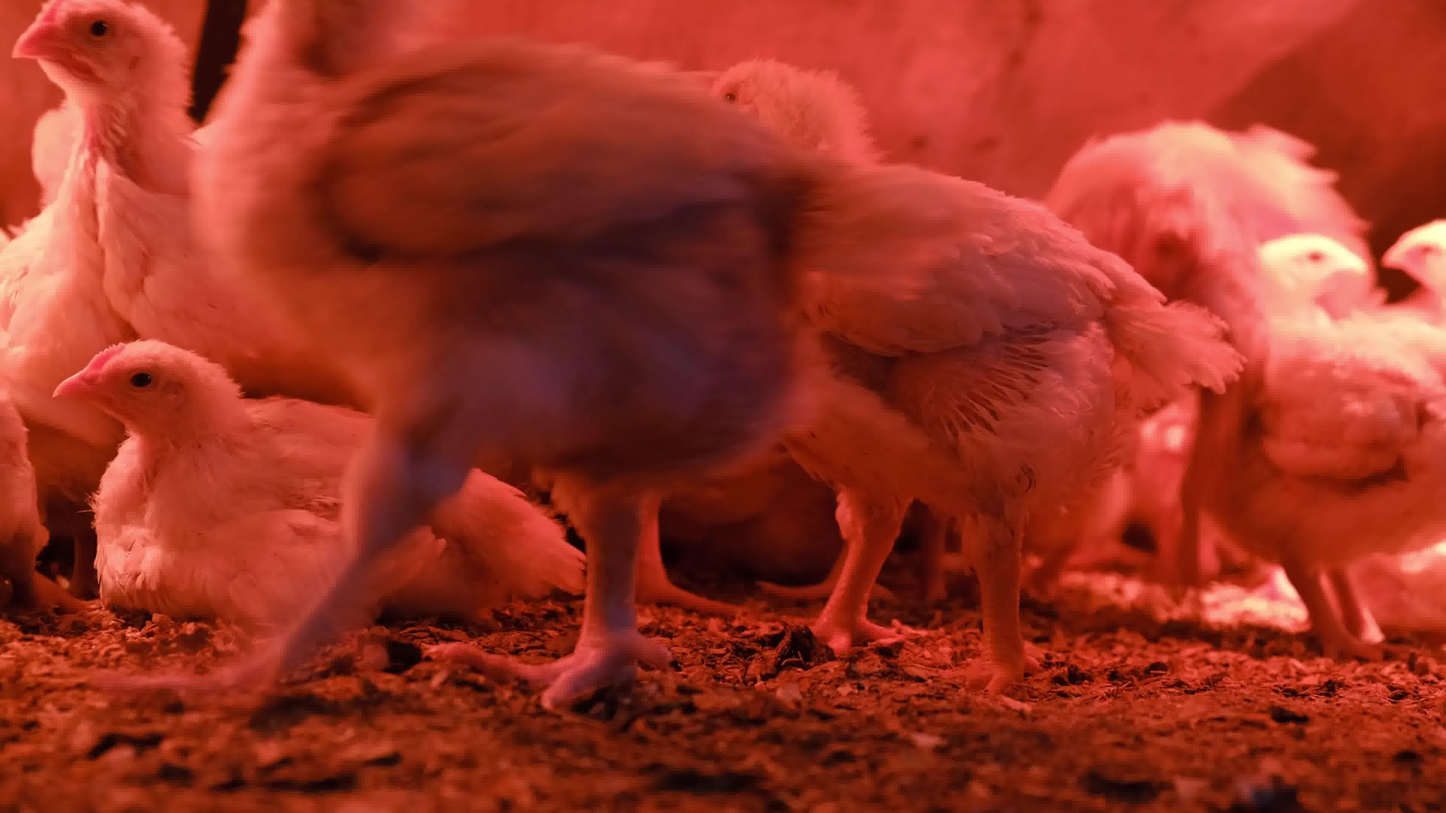AbNormal: (53, 339, 600, 605), (0, 379, 64, 619)
Normal: (200, 0, 828, 724), (699, 57, 1234, 699), (14, 0, 281, 397), (1030, 113, 1379, 410), (1244, 234, 1444, 653), (1386, 219, 1446, 330)
